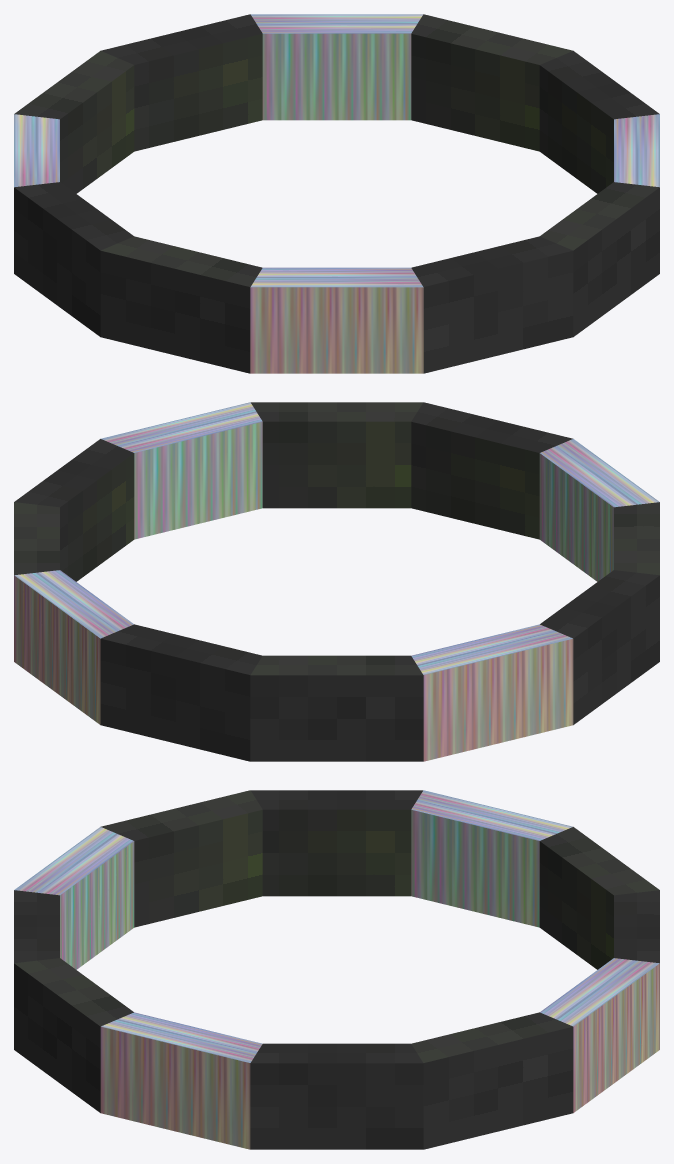
The model's file is matrix_ring.obj.
3 views of the same model, one above another, from view 1: azimuth 30°, elevation 25°; view 2: azimuth 150°, elevation 25°; view 3: azimuth 270°, elevation 25° (orthographic).
Visible parts, largest first — view 1: MATRIX_RING; view 2: MATRIX_RING; view 3: MATRIX_RING.
Part boxes in pixels (box(x1,y1,x2,y2)): MATRIX_RING: box(14, 14, 659, 373); MATRIX_RING: box(14, 402, 659, 761); MATRIX_RING: box(14, 790, 659, 1149).
Size of the model in its own units: 0.8452 by 0.125 by 0.8452.
